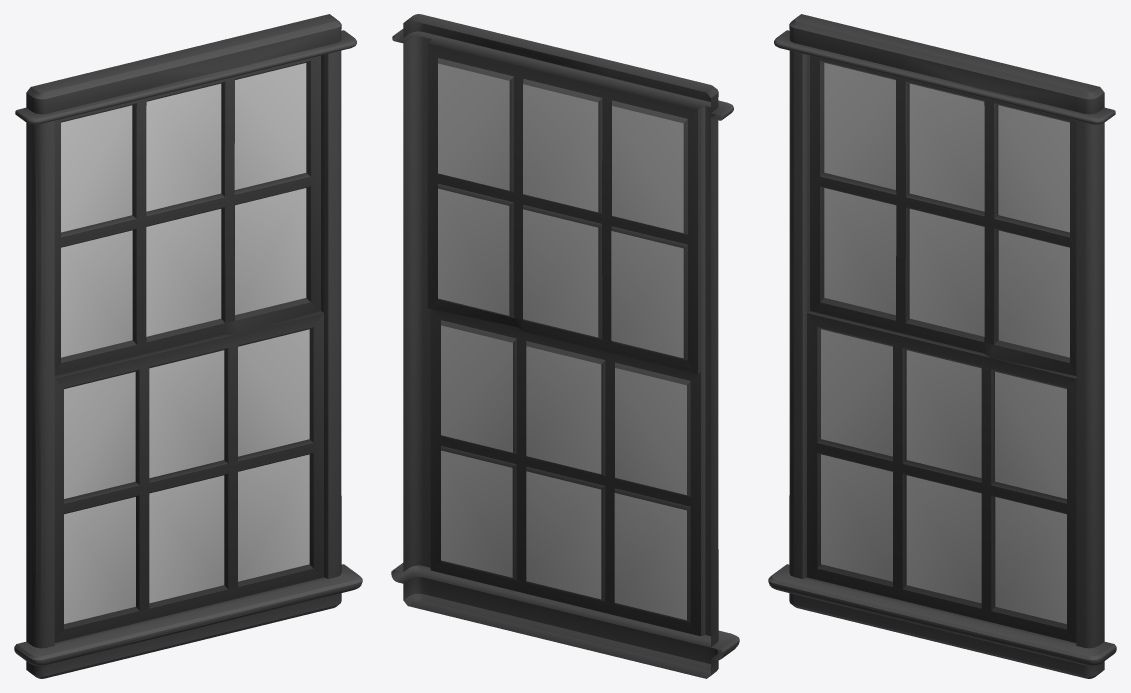
Rendered from window_03.fbx.
3 views of the same model, side by side, from view 1: azimuth 30°, elevation 25°; view 2: azimuth 150°, elevation 25°; view 3: azimuth 330°, elevation 25° (orthographic).
Parts seen in each view (by area): view 1: window_03; view 2: window_03; view 3: window_03.
Boxes of the visible parts, x1=… form: window_03: x1=14, y1=14, x2=362, y2=678; window_03: x1=391, y1=14, x2=739, y2=678; window_03: x1=768, y1=14, x2=1116, y2=678.
Bounding box in the file's own units: 0.8606 × 1.45 × 0.0923.
